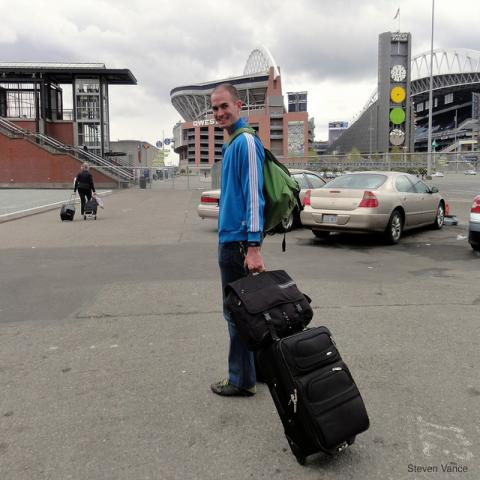car: (302, 171, 446, 244), (198, 168, 324, 218), (467, 196, 479, 251)
